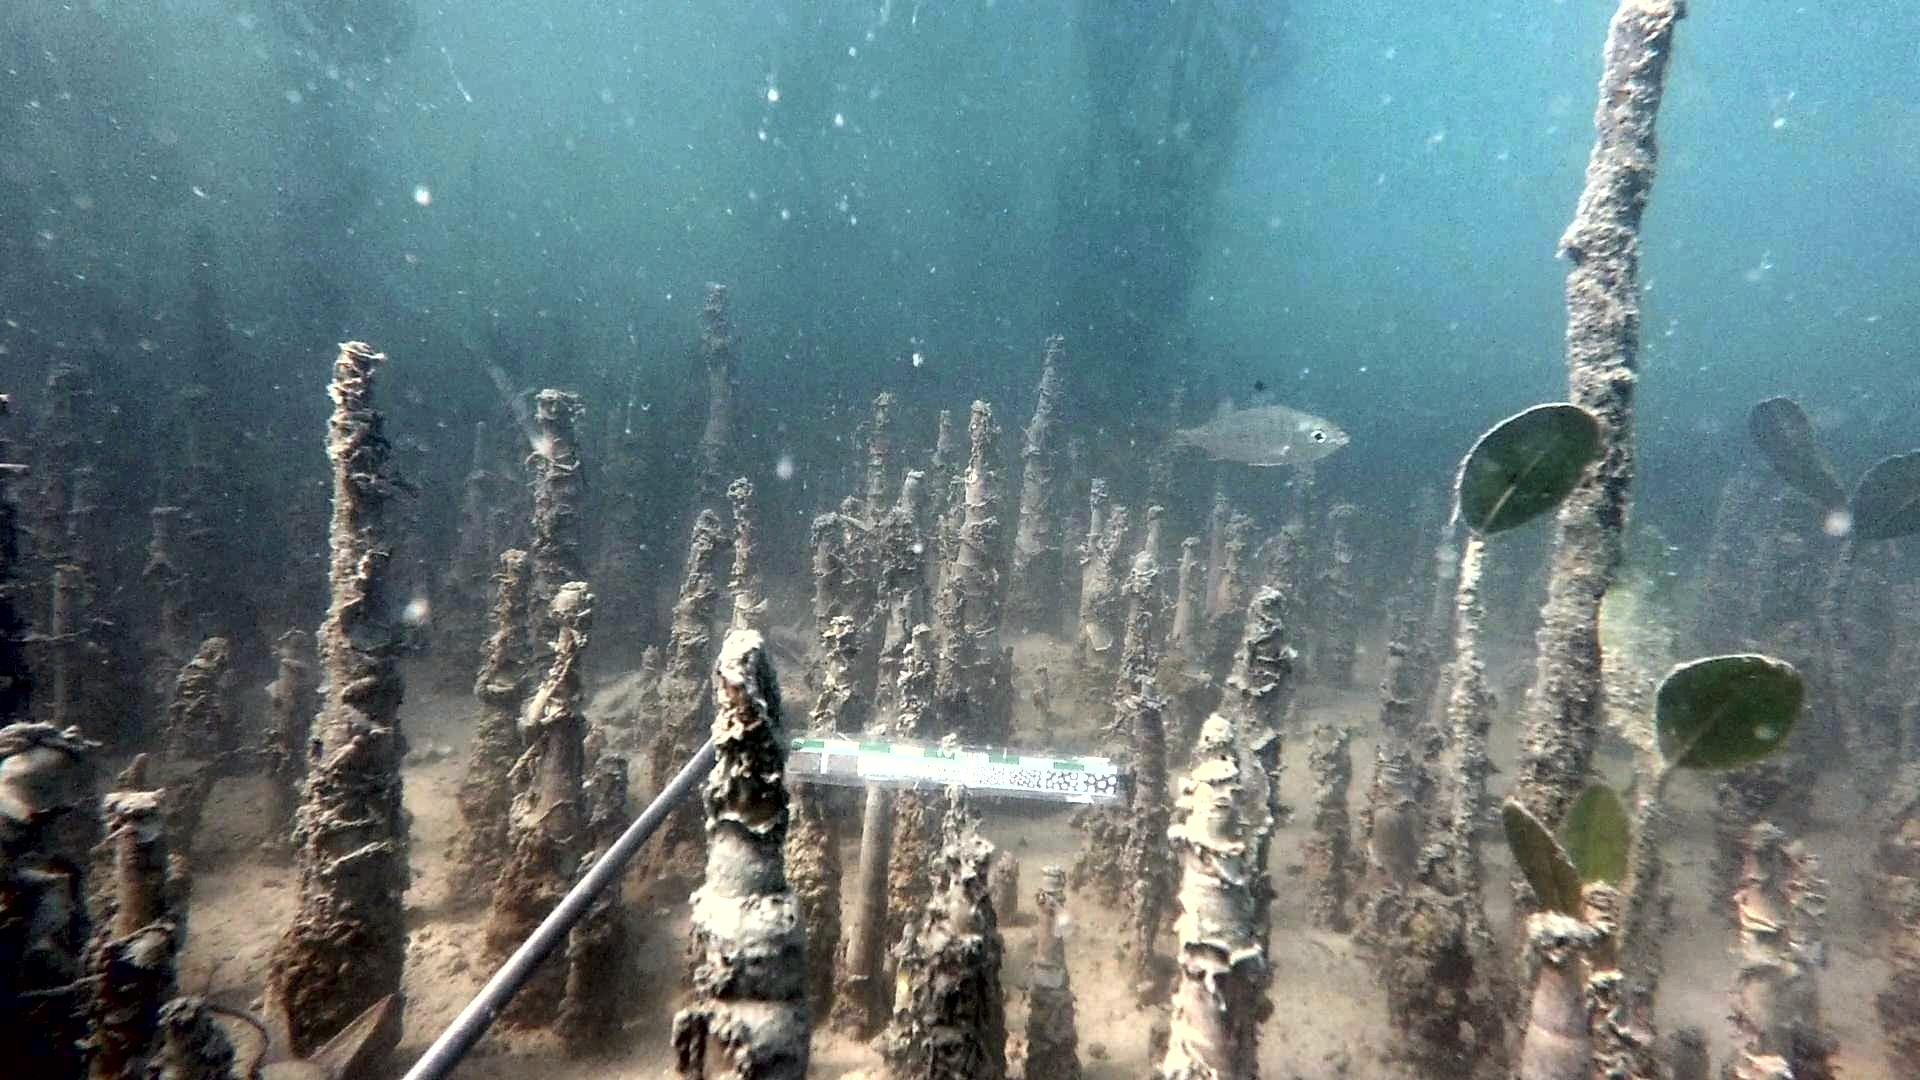gerres: (1150, 377, 1354, 471)
